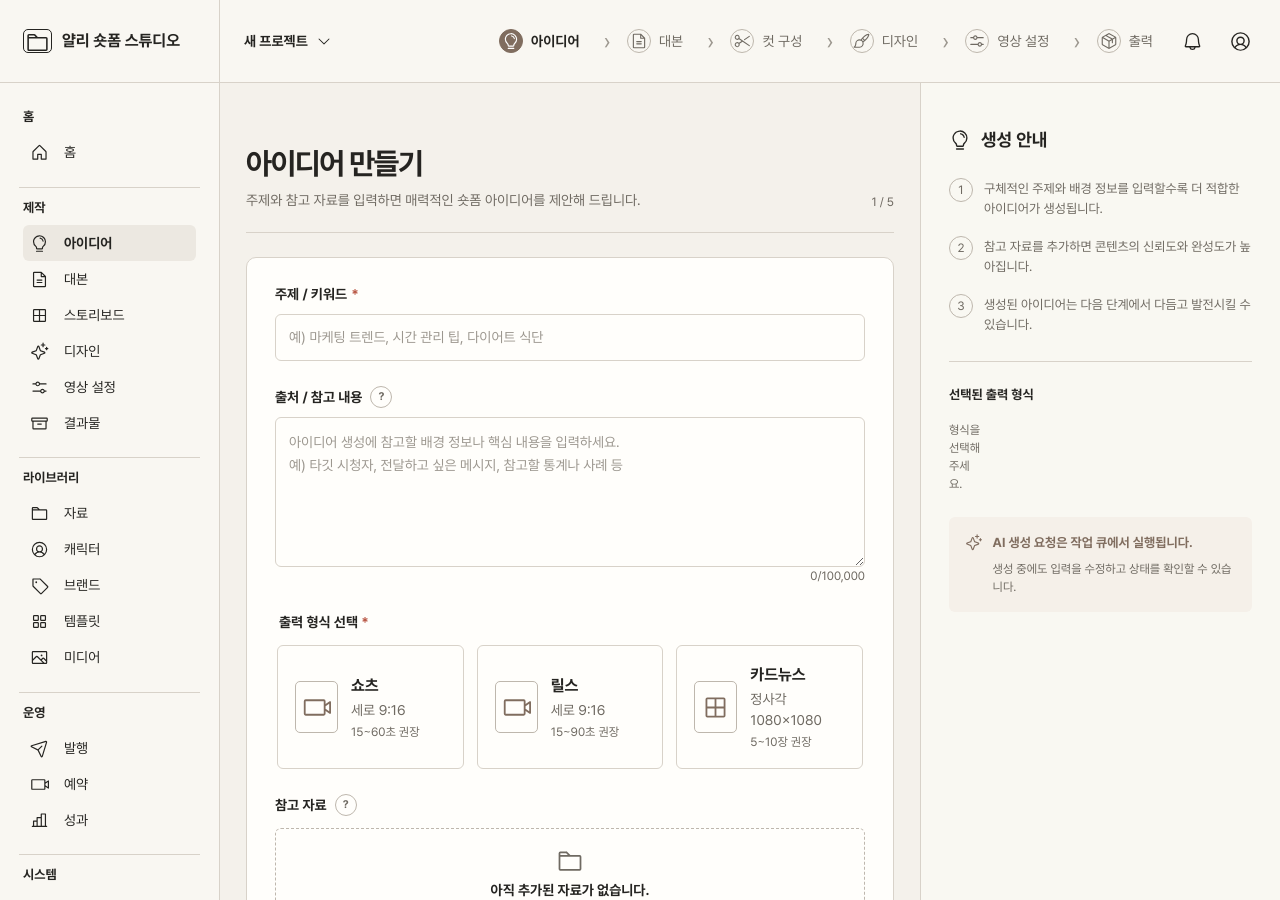
Test: shows source guidance on hover or focus and hides it after leaving
The width and height of the screenshot is (1280, 900).
Hover over the button named "출처 도움말": (382, 397) [370, 386, 392, 408]
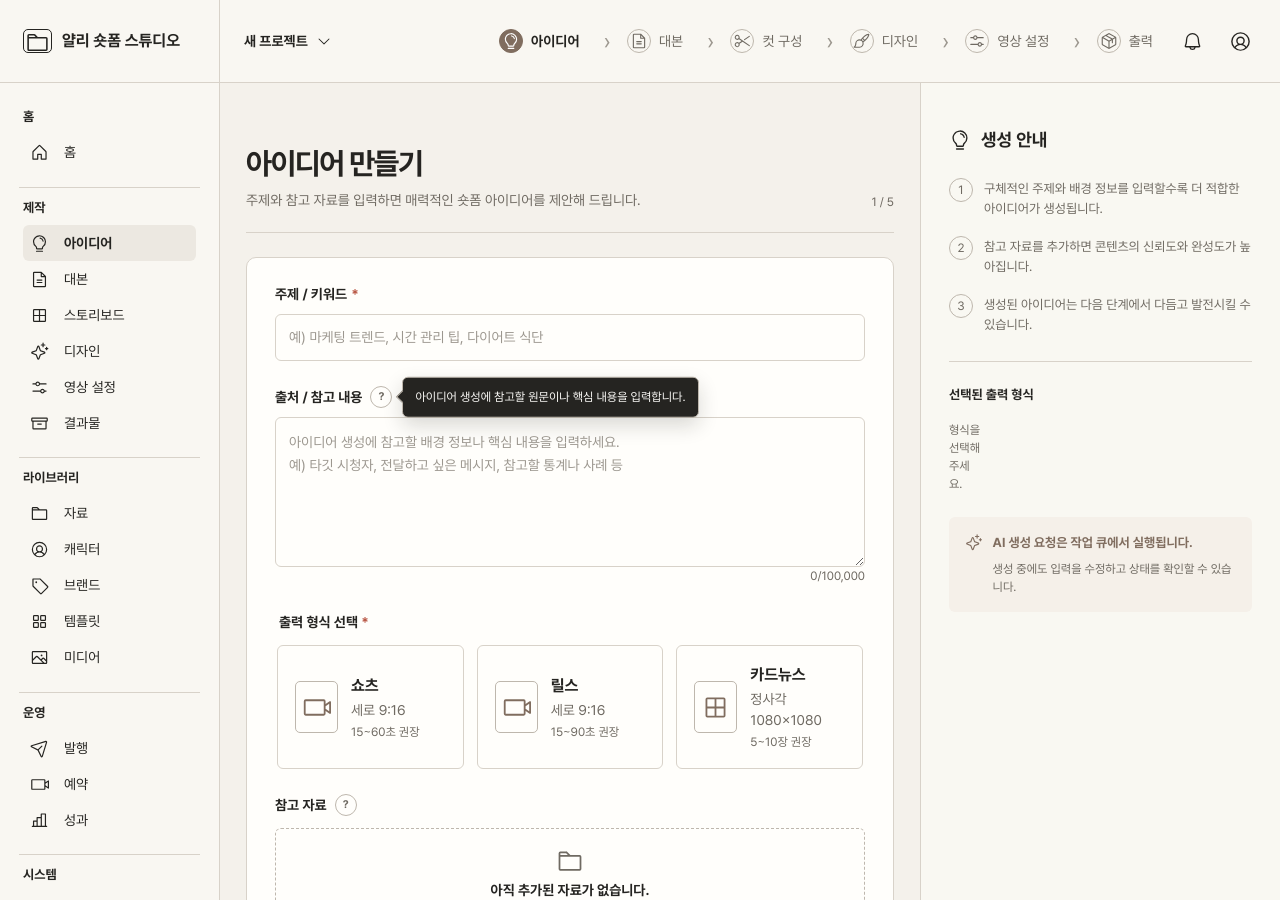
Expected: the tooltip reads "아이디어 생성에 참고할 원문이나 핵심 내용을 입력합니다.", [416, 390, 686, 404]
Move the pointer off the button named "출처 도움말", box [370, 386, 392, 408]
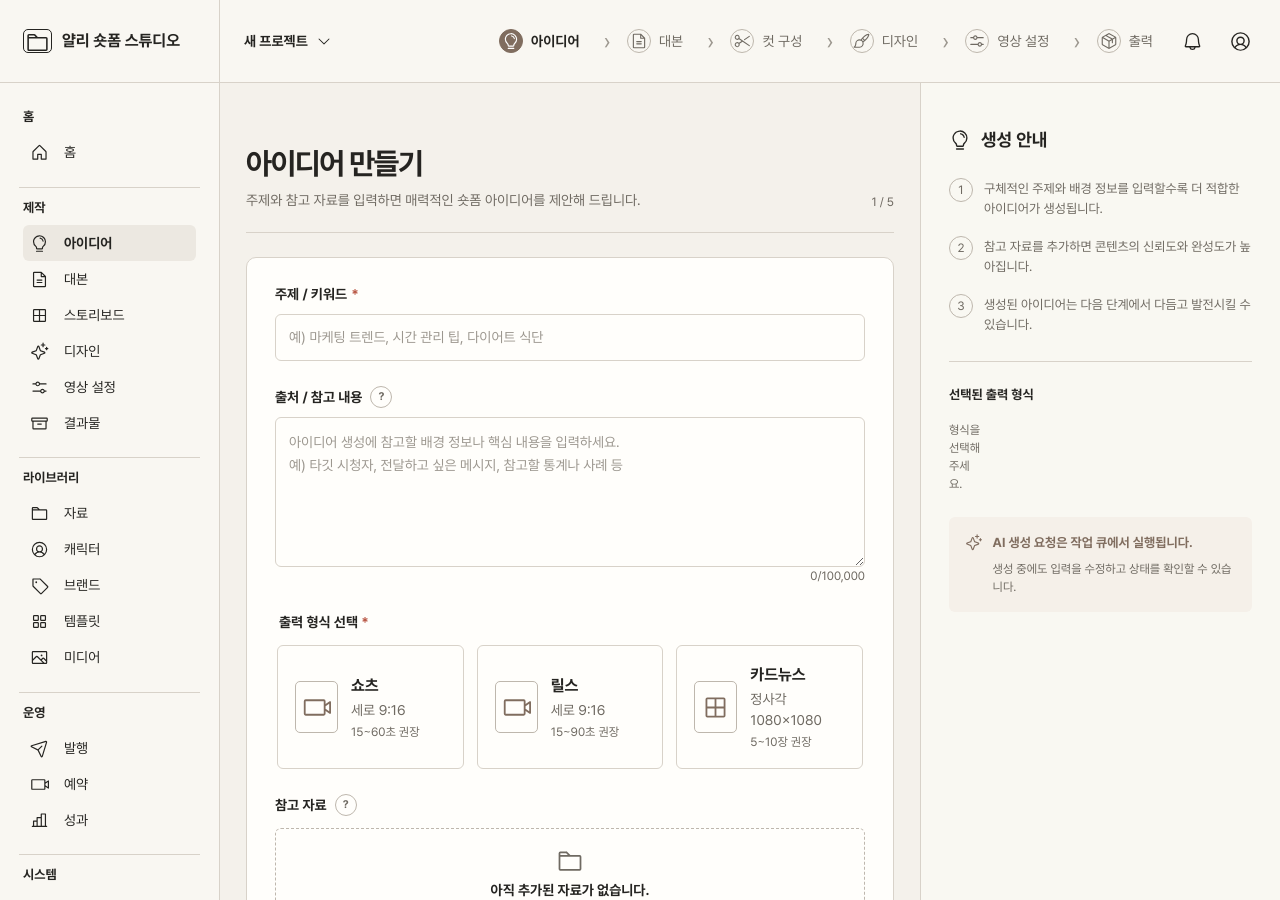
Expected: the tooltip "아이디어 생성에 참고할 원문이나 핵심 내용을 입력합니다." is gone
Focus the button named "출처 도움말": (382, 397) [370, 386, 392, 408]
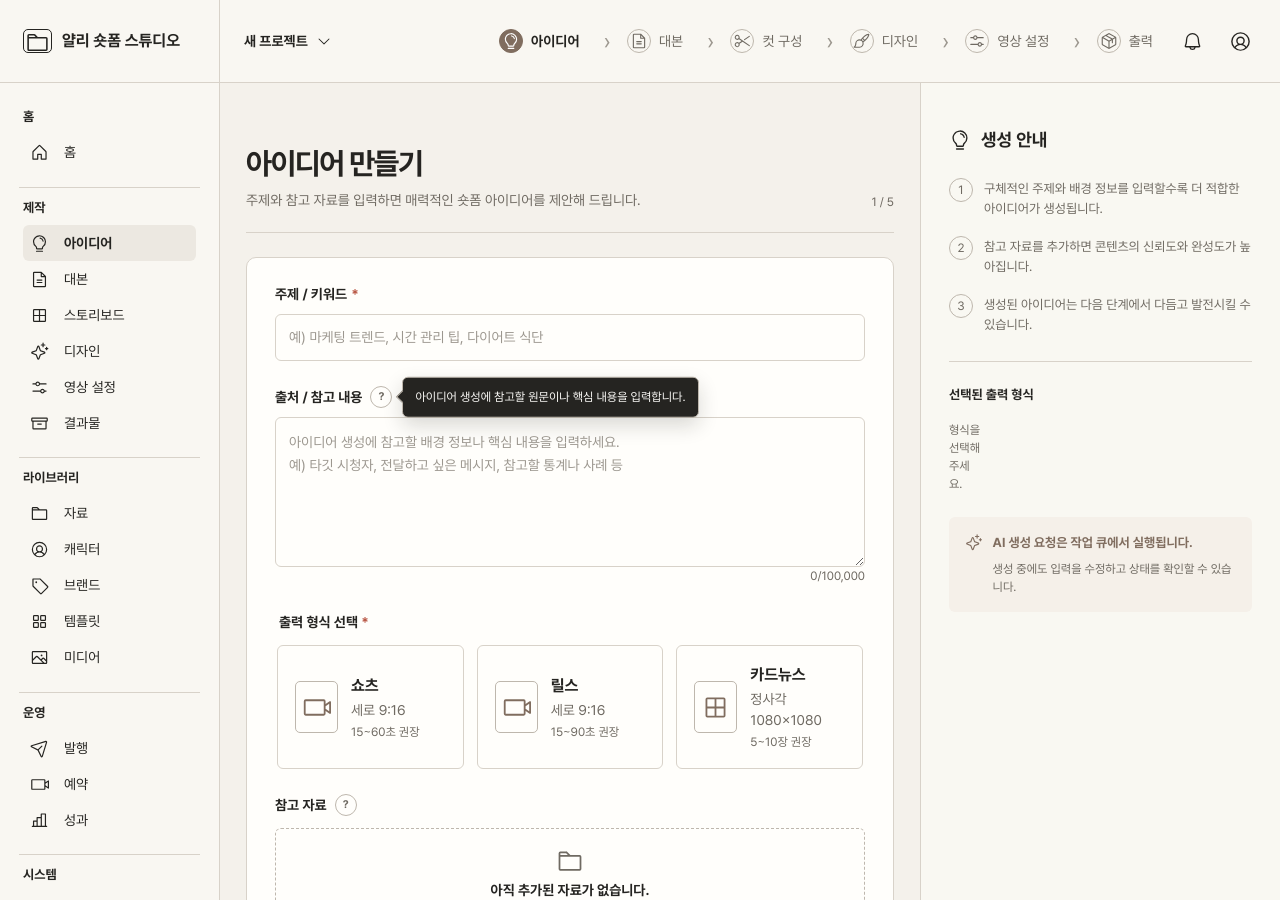
Expected: the tooltip reads "아이디어 생성에 참고할 원문이나 핵심 내용을 입력합니다.", [416, 390, 686, 404]
Leave the button named "출처 도움말", box [370, 386, 392, 408]
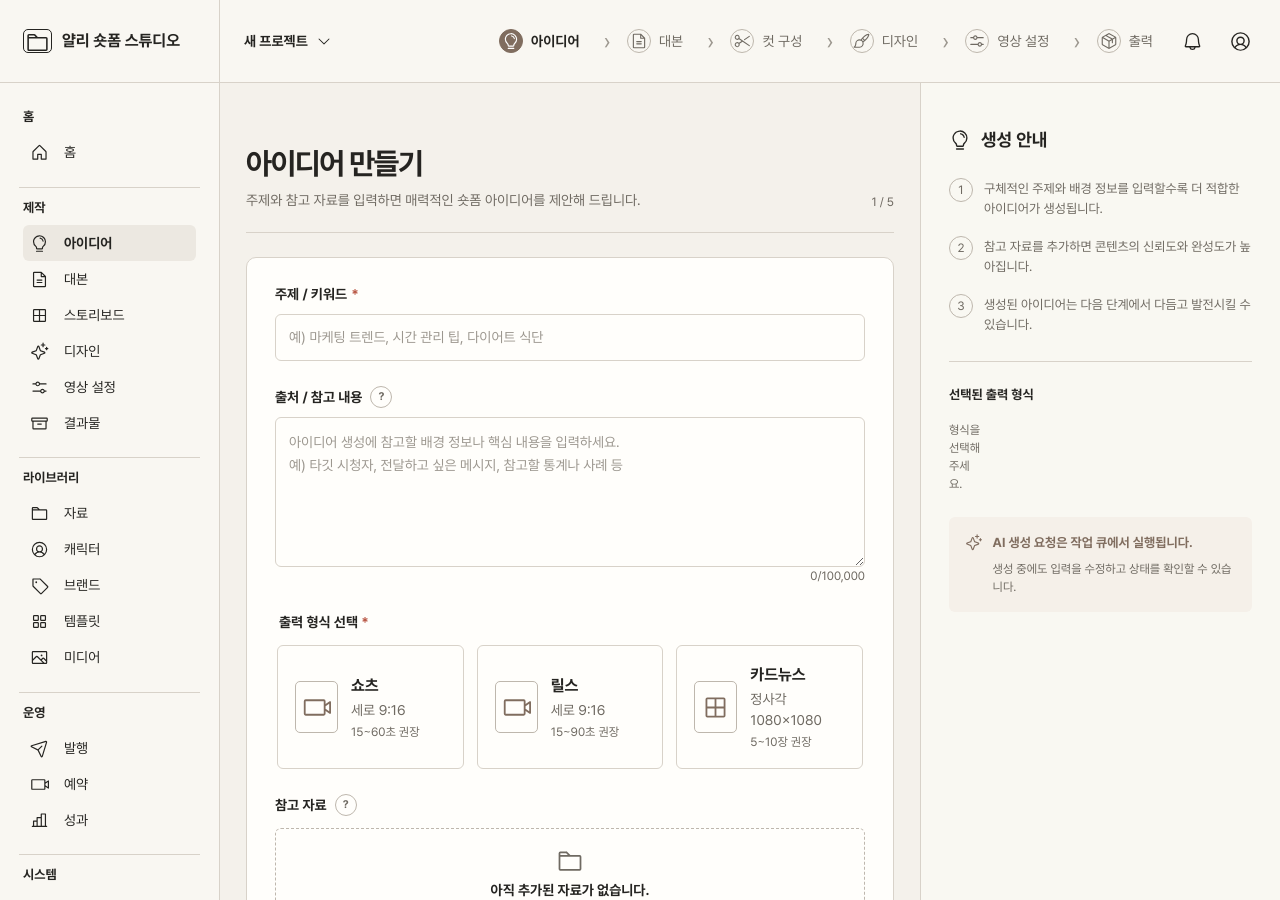
Expected: the tooltip "아이디어 생성에 참고할 원문이나 핵심 내용을 입력합니다." is gone
